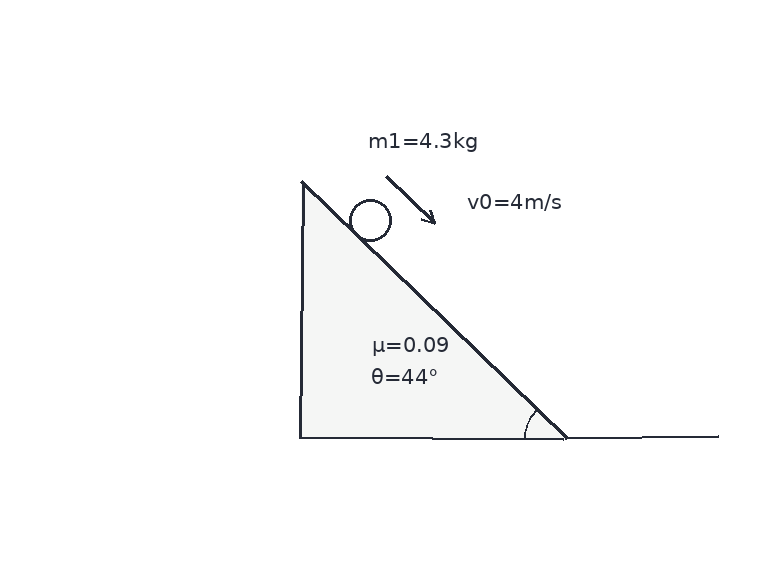ball: (347, 197, 393, 243)
ramp: (299, 181, 567, 440)
